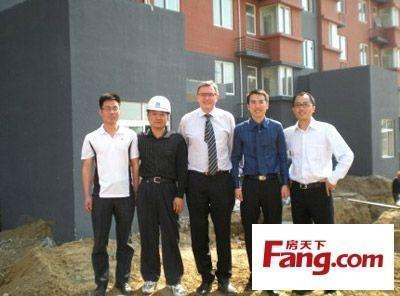Boots: (141, 92, 175, 119)
Ear-protection: (282, 81, 355, 224), (76, 89, 141, 202)
